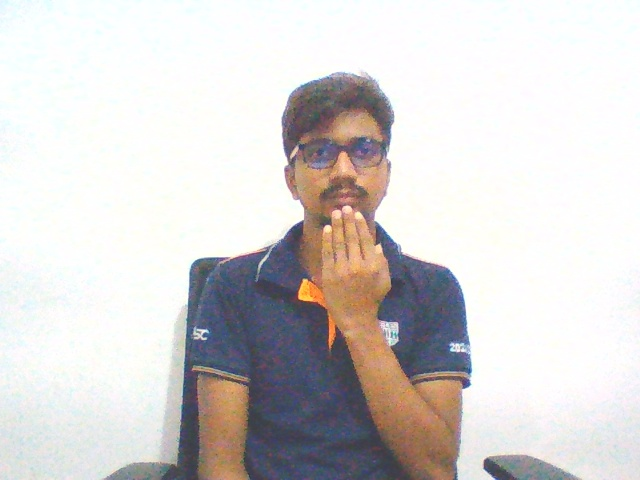mango: (316, 201, 396, 341)
